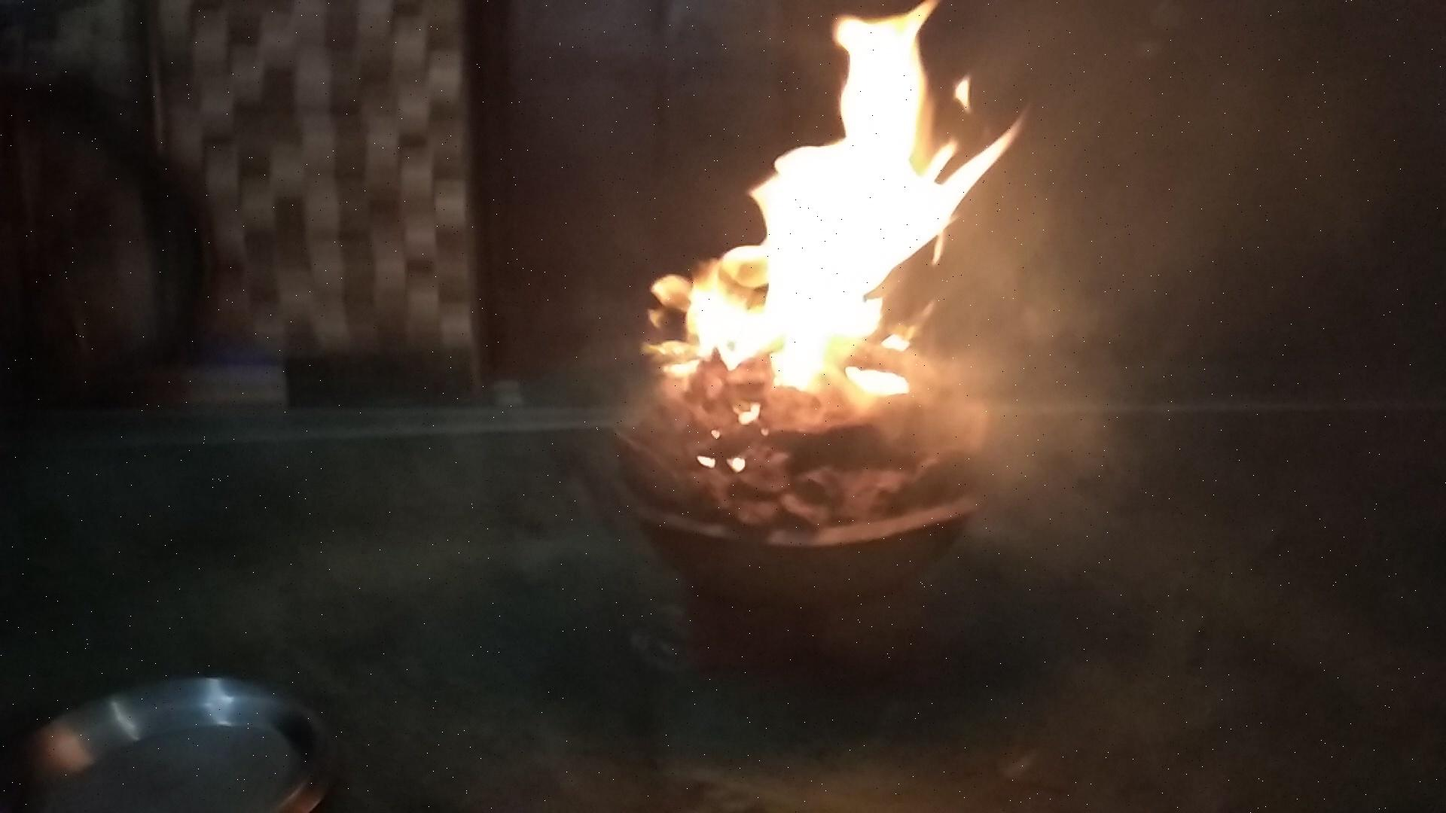fire: (656, 3, 1034, 450)
